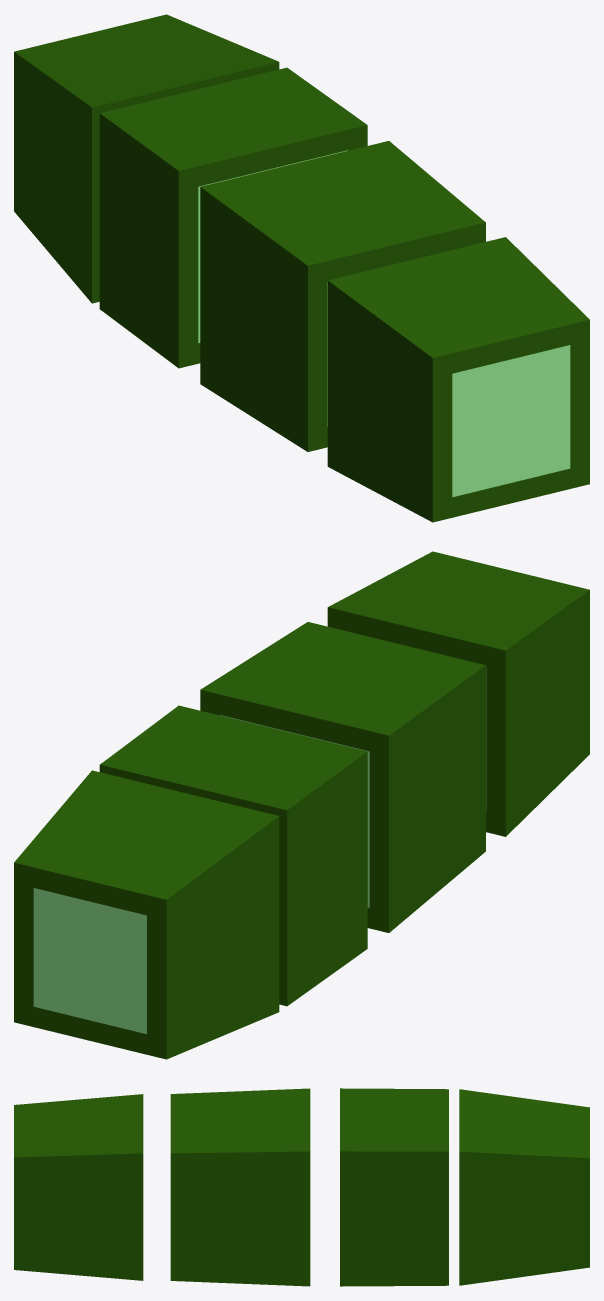
Rendered from cucumberSliced.fbx.
3 renders of one model, top to bottom at view 1: azimuth 30°, elevation 25°; view 2: azimuth 150°, elevation 25°; view 3: azimuth 270°, elevation 25°, orthographic. The views are drawn at different scales.
Parts seen in each view (by area): view 1: CucumberSliced.001, CucumberSliced.002, CucumberSliced.003, CucumberSliced.004; view 2: CucumberSliced.004, CucumberSliced.002, CucumberSliced.001, CucumberSliced.003; view 3: CucumberSliced.002, CucumberSliced.004, CucumberSliced.001, CucumberSliced.003.
Boxes of the visible parts, <box> form: CucumberSliced.001: <box>327,237,589,522</box>; CucumberSliced.002: <box>200,141,485,451</box>; CucumberSliced.003: <box>99,67,367,368</box>; CucumberSliced.004: <box>14,14,279,303</box>; CucumberSliced.004: <box>14,770,279,1059</box>; CucumberSliced.002: <box>200,622,485,932</box>; CucumberSliced.001: <box>327,551,589,836</box>; CucumberSliced.003: <box>99,705,367,1006</box>; CucumberSliced.002: <box>170,1088,310,1286</box>; CucumberSliced.004: <box>459,1089,589,1285</box>; CucumberSliced.001: <box>14,1094,143,1280</box>; CucumberSliced.003: <box>340,1088,448,1286</box>.
Size of the model in its own units: 136 by 136 by 525.
